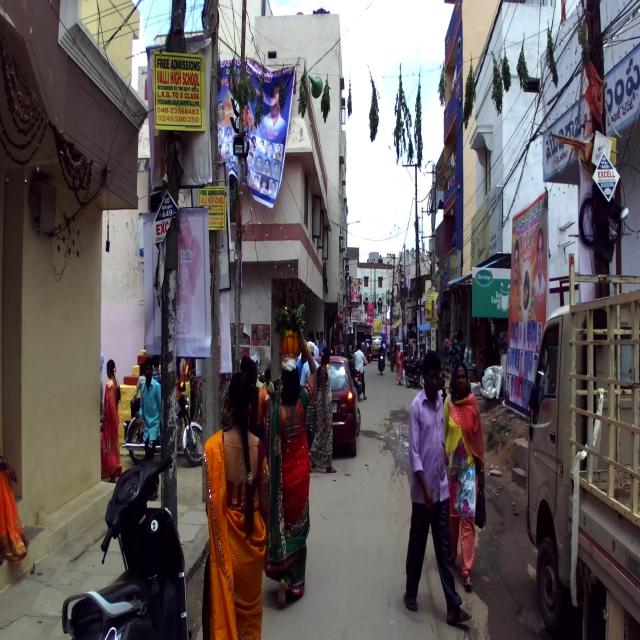car: (298, 352, 358, 454)
motorcycle: (122, 391, 205, 466)
scooter: (62, 454, 194, 639)
